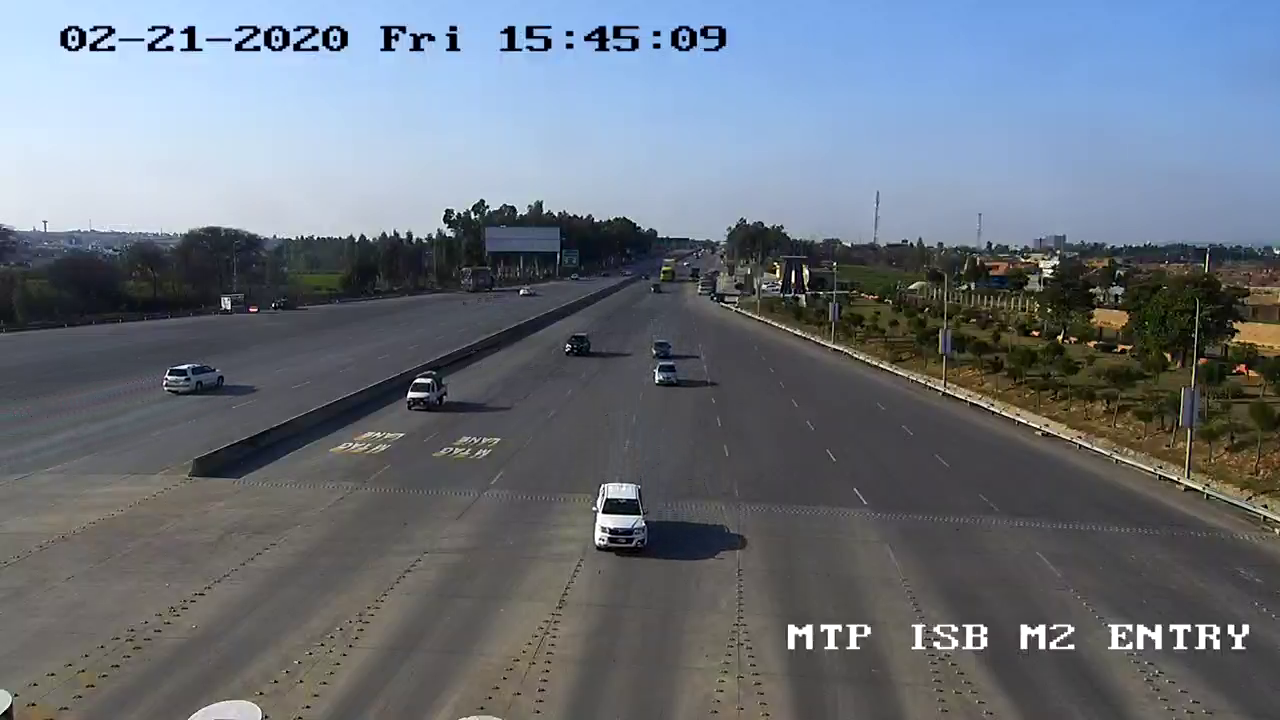f1: (589, 479, 651, 560), (403, 368, 457, 421)
